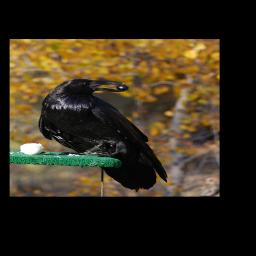Crow: (37, 79, 167, 192)
